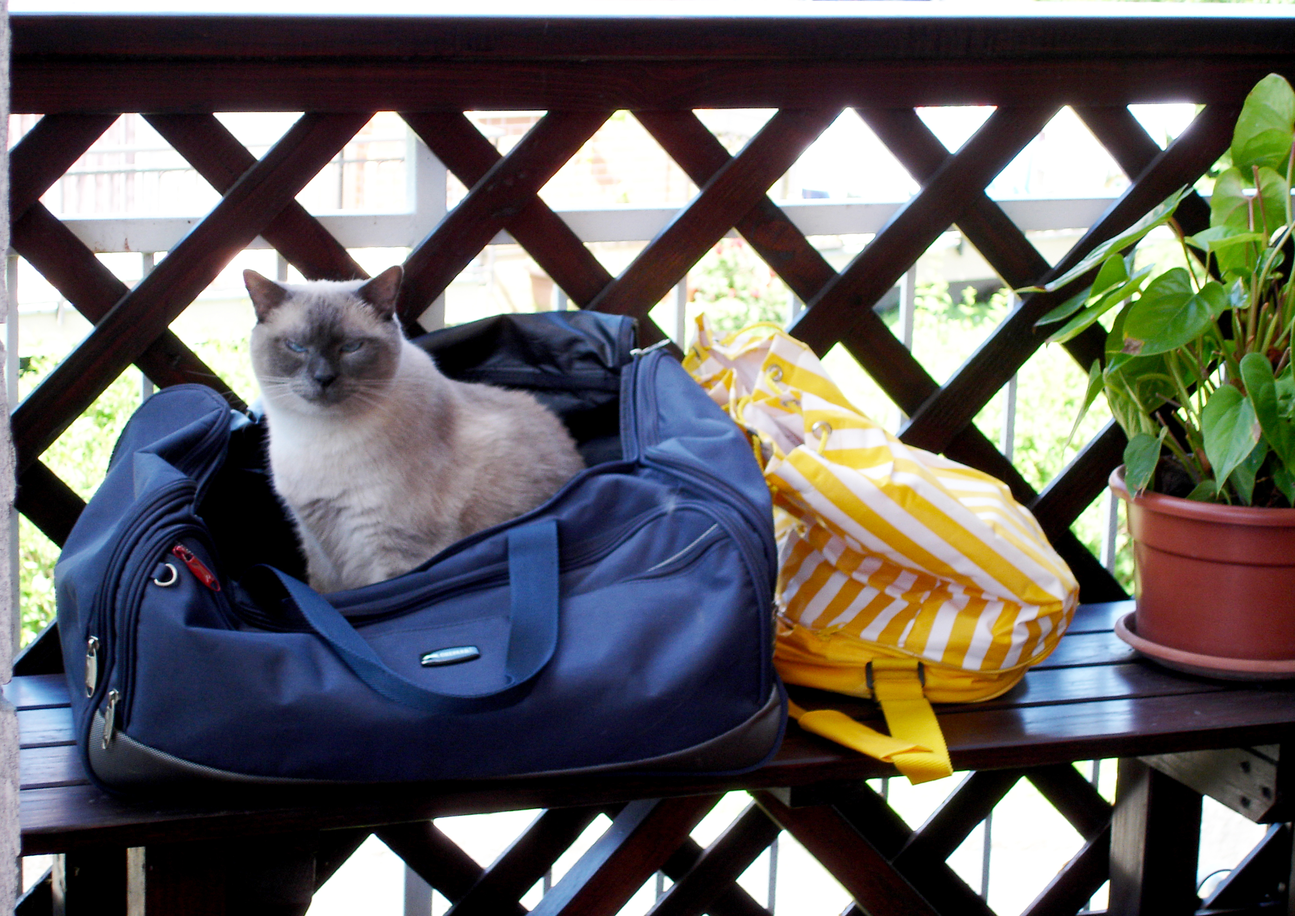cat: (239, 265, 587, 596)
